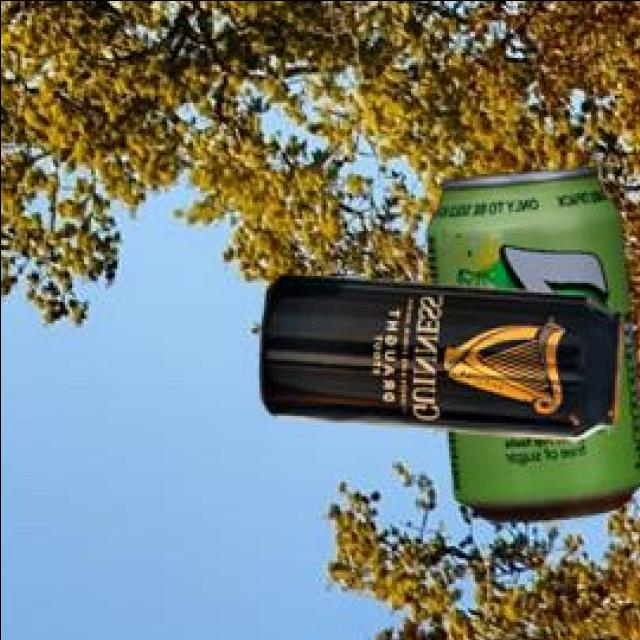logam: (423, 172, 640, 525), (257, 276, 620, 442)
